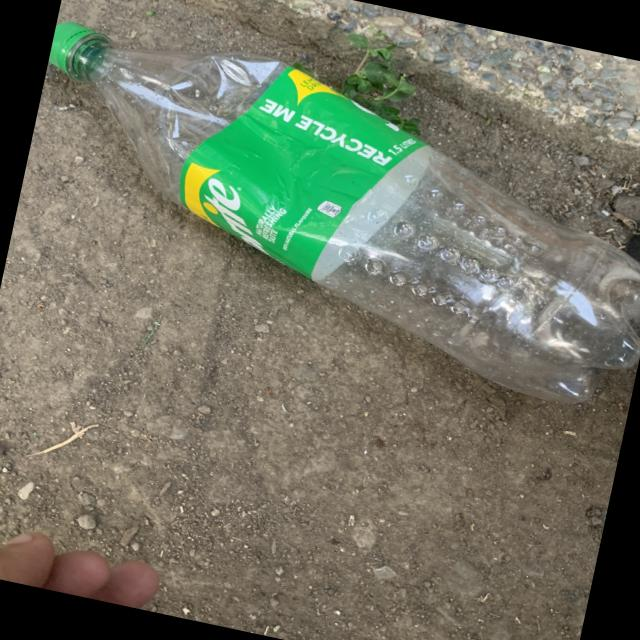Bottle: (48, 22, 640, 403)
